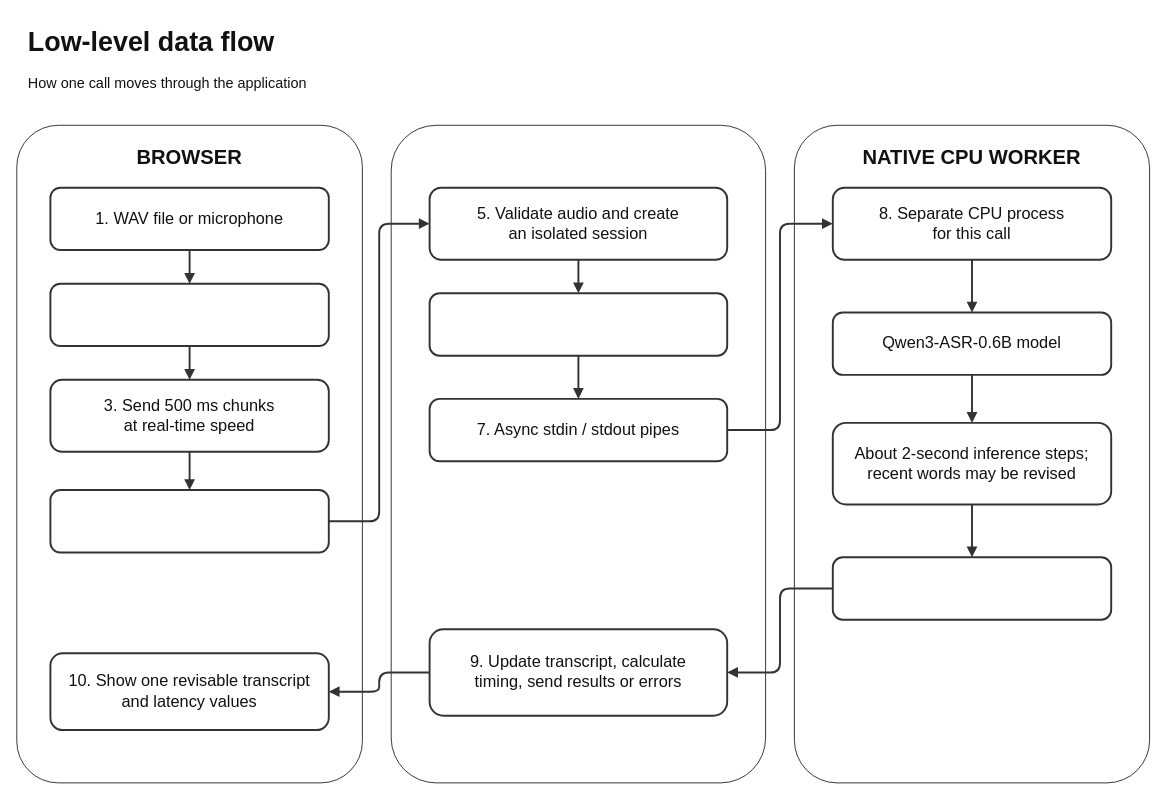
This 1166x800 diagram has some shape labels left out. The box of each missing label's shape, as (x1, y1, x2, y2) in pixels:
2. Convert to 16 kHz mono PCM16: (49, 282, 329, 347)
4. WebSocket connection: (49, 489, 329, 553)
6. Bounded audio queue: (428, 292, 728, 356)
FASTAPI BACKEND: (390, 124, 766, 783)
Text hypotheses on stdout: (831, 556, 1112, 620)
